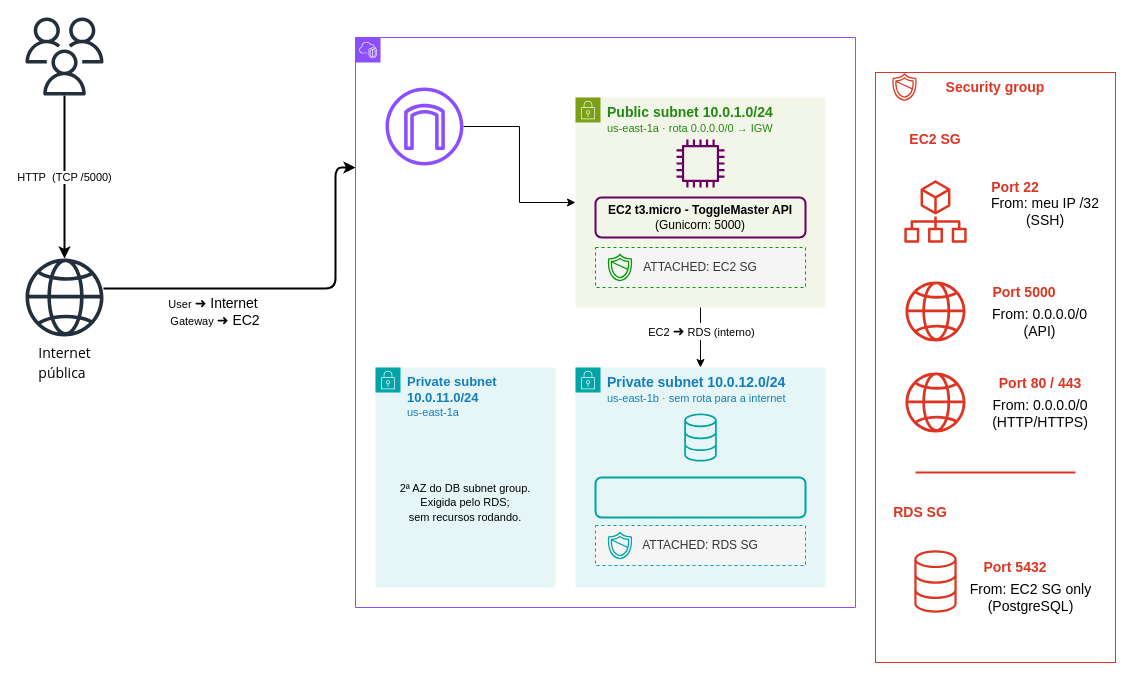
Some shapes in this 1133 by 680 pixel diagram are drawn without their labels. Here are the shapes that lost their labels. From the top down, the box of each, then its label:
(25, 17, 103, 95): Users
(385, 87, 463, 165): Internet Gateway igw-05239f9257292a45f
(354, 36, 856, 608): VPC 10.0.0.0/16 · us-east-1 (N. Virginia)
(594, 476, 806, 518): RDS PostgreSQL - db.t3.micro
